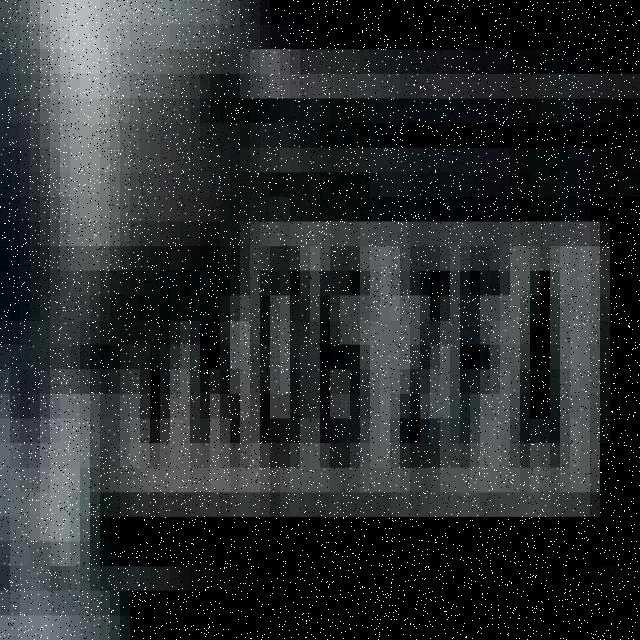licenseplate: (245, 189, 633, 581)
